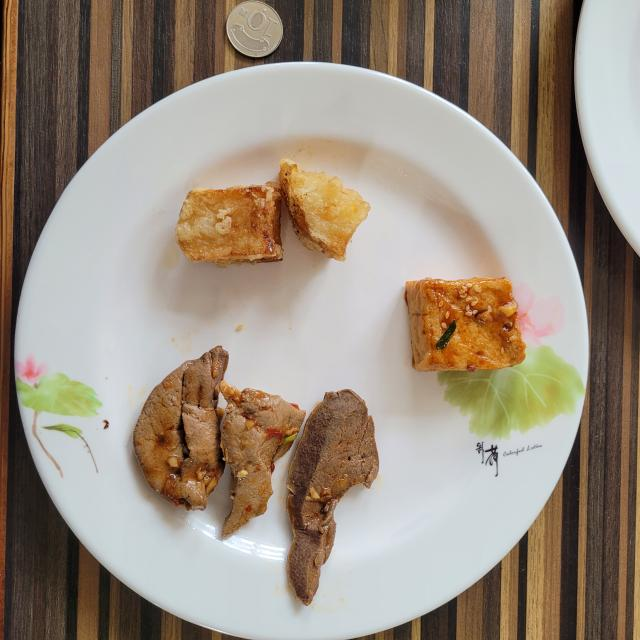coin: (226, 0, 282, 58)
creamy tofu: (405, 278, 526, 371)
fried potato: (175, 158, 370, 268)
pig liver: (134, 346, 305, 536), (286, 390, 379, 605)
